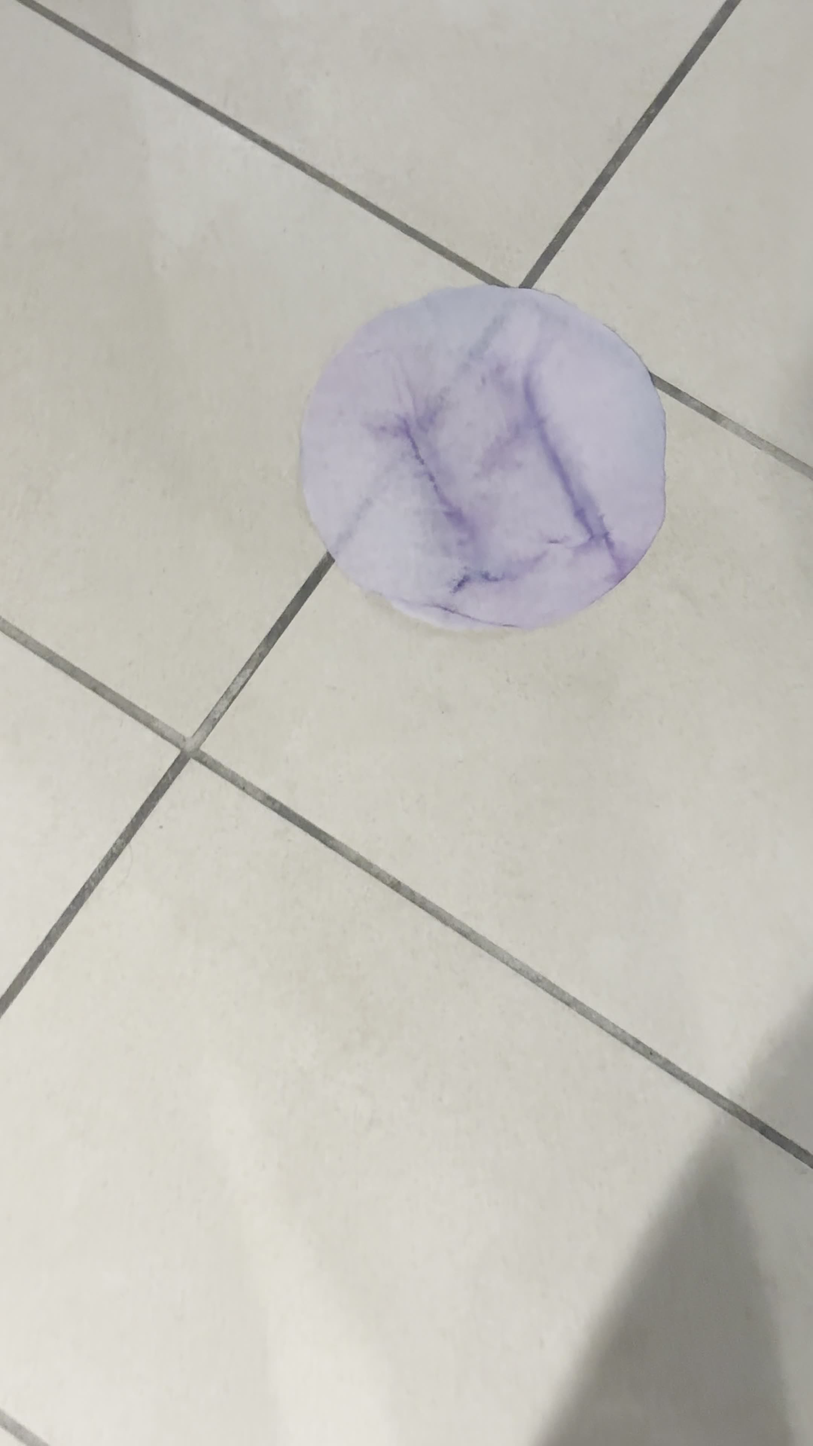Target: (293, 285, 669, 637)
